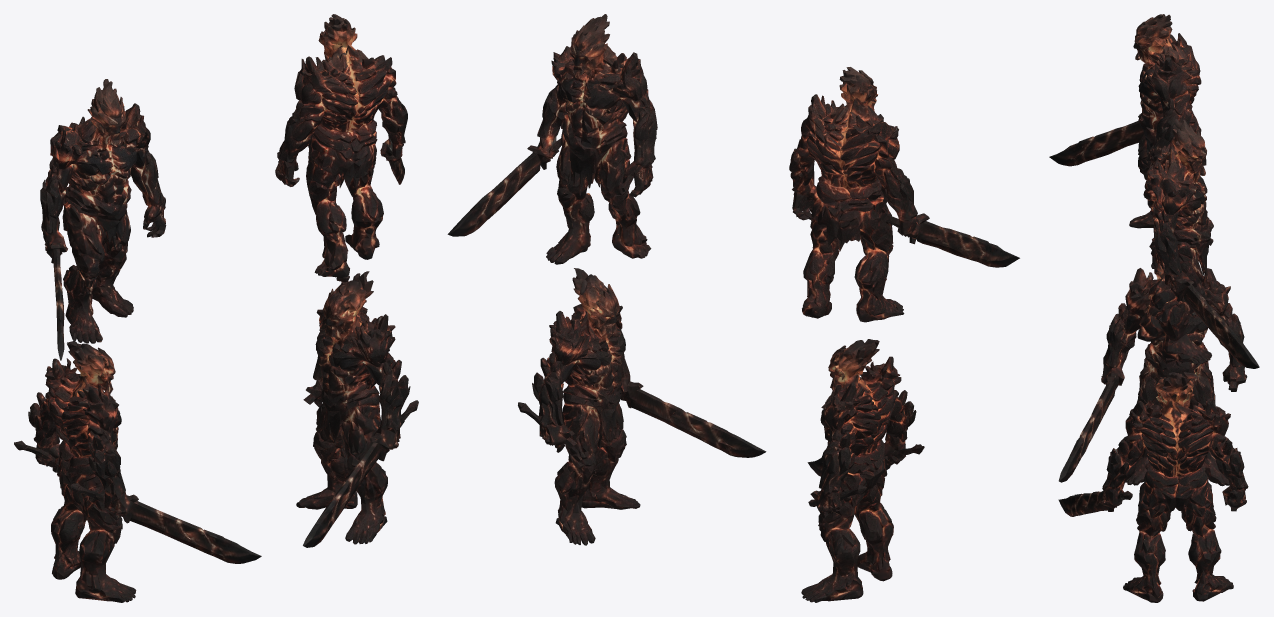
Rendered from VHARKAR-v1-aposize.glb.
3 renders of one model, left to right at view 1: azimuth 30°, elevation 25°; view 2: azimuth 150°, elevation 25°; view 3: azimuth 270°, elevation 25°, orthographic. The views are drawn at different scales.
Visible parts, largest first — view 1: mesh_node; view 2: mesh_node; view 3: mesh_node.
Part boxes in pixels (x1,y1,x2,y2): mesh_node: (14,14,418,602); mesh_node: (447,14,1019,602); mesh_node: (1049,14,1259,602).
Size of the model in its own units: 1.79 by 1.9 by 0.7741.
1 material, 1 textured.
